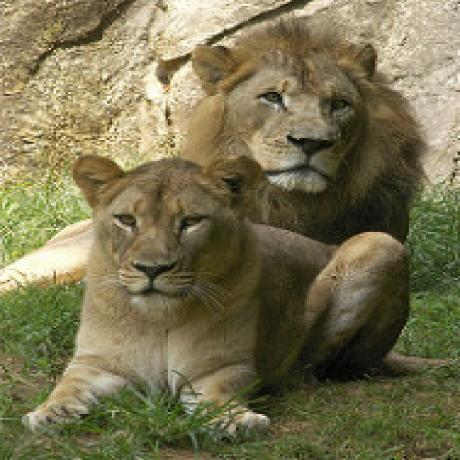Lion: (40, 150, 280, 441), (177, 9, 429, 255)
